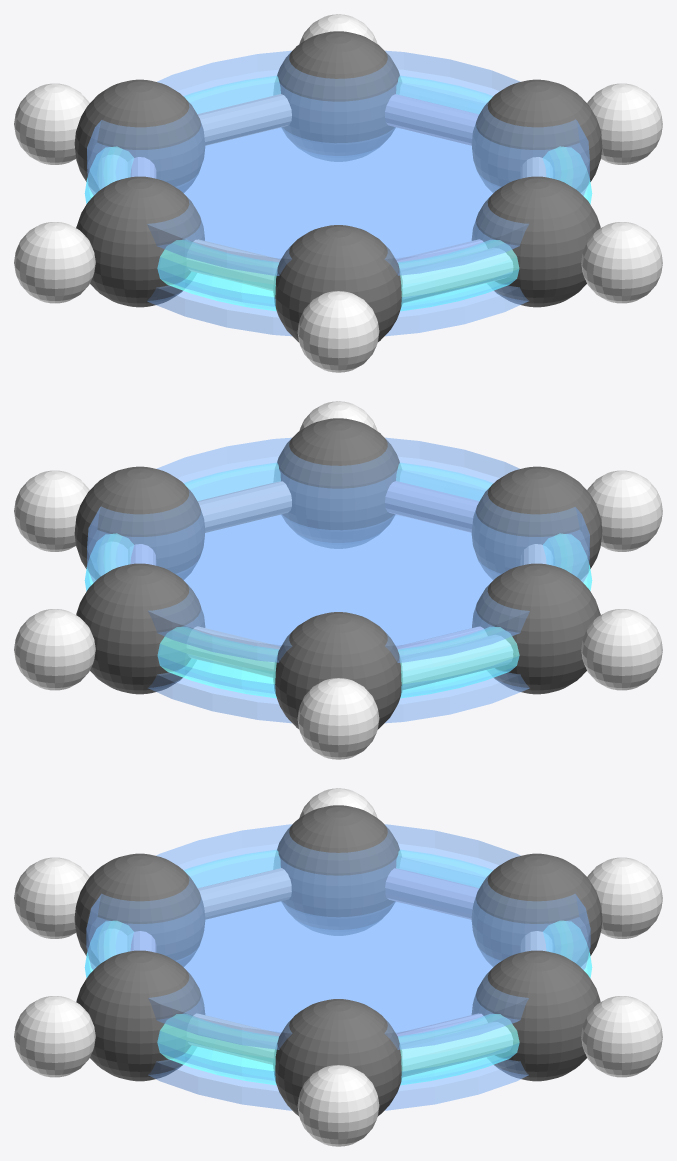
File: Benzene#2.glb
3 views of the same model, one above another, from view 1: azimuth 30°, elevation 25°; view 2: azimuth 150°, elevation 25°; view 3: azimuth 270°, elevation 25° (orthographic).
Parts seen in each view (by area): view 1: Pi_Cloud_Top, Pi_Cloud_Bottom, Electron_Cloud, Carbon_2, Carbon_4, Carbon_6, Electron_Cloud.001, Carbon_1, Carbon_3, Carbon_5, Hydrogen_5, Hydrogen_4 (+12 smaller); view 2: Pi_Cloud_Top, Pi_Cloud_Bottom, Electron_Cloud, Carbon_6, Carbon_2, Carbon_4, Electron_Cloud.001, Carbon_5, Carbon_1, Carbon_3, Hydrogen_3, Hydrogen_2 (+12 smaller); view 3: Pi_Cloud_Top, Pi_Cloud_Bottom, Electron_Cloud, Carbon_4, Carbon_6, Carbon_2, Electron_Cloud.001, Carbon_3, Carbon_5, Carbon_1, Hydrogen_1, Hydrogen_2 (+12 smaller).
Part boxes in pixels (bbox=[...]): Pi_Cloud_Top: bbox=[87, 50, 589, 275]; Pi_Cloud_Bottom: bbox=[147, 128, 528, 336]; Electron_Cloud: bbox=[84, 76, 592, 311]; Carbon_2: bbox=[274, 31, 401, 161]; Carbon_4: bbox=[76, 176, 204, 307]; Carbon_6: bbox=[471, 176, 600, 307]; Electron_Cloud.001: bbox=[85, 77, 591, 310]; Carbon_1: bbox=[471, 79, 602, 192]; Carbon_3: bbox=[74, 79, 205, 192]; Carbon_5: bbox=[273, 225, 402, 342]; Hydrogen_5: bbox=[297, 291, 379, 372]; Hydrogen_4: bbox=[14, 222, 95, 303]; Pi_Cloud_Top: bbox=[87, 437, 589, 662]; Pi_Cloud_Bottom: bbox=[148, 515, 529, 723]; Electron_Cloud: bbox=[84, 463, 592, 698]; Carbon_6: bbox=[274, 418, 401, 548]; Carbon_2: bbox=[76, 563, 205, 694]; Carbon_4: bbox=[472, 563, 600, 694]; Electron_Cloud.001: bbox=[85, 464, 591, 697]; Carbon_5: bbox=[471, 466, 602, 579]; Carbon_1: bbox=[74, 466, 205, 579]; Carbon_3: bbox=[273, 612, 402, 729]; Hydrogen_3: bbox=[297, 678, 379, 759]; Hydrogen_2: bbox=[14, 609, 95, 690]; Pi_Cloud_Top: bbox=[86, 824, 590, 1049]; Pi_Cloud_Bottom: bbox=[148, 902, 528, 1110]; Electron_Cloud: bbox=[84, 850, 592, 1085]; Carbon_4: bbox=[274, 805, 401, 935]; Carbon_6: bbox=[76, 950, 205, 1081]; Carbon_2: bbox=[471, 950, 600, 1081]; Electron_Cloud.001: bbox=[85, 851, 591, 1084]; Carbon_3: bbox=[471, 853, 602, 966]; Carbon_5: bbox=[74, 853, 205, 966]; Carbon_1: bbox=[273, 999, 402, 1116]; Hydrogen_1: bbox=[297, 1065, 379, 1146]; Hydrogen_2: bbox=[581, 996, 662, 1077].
Bounding box in the file's own units: 4.5 × 0.8 × 3.96.
